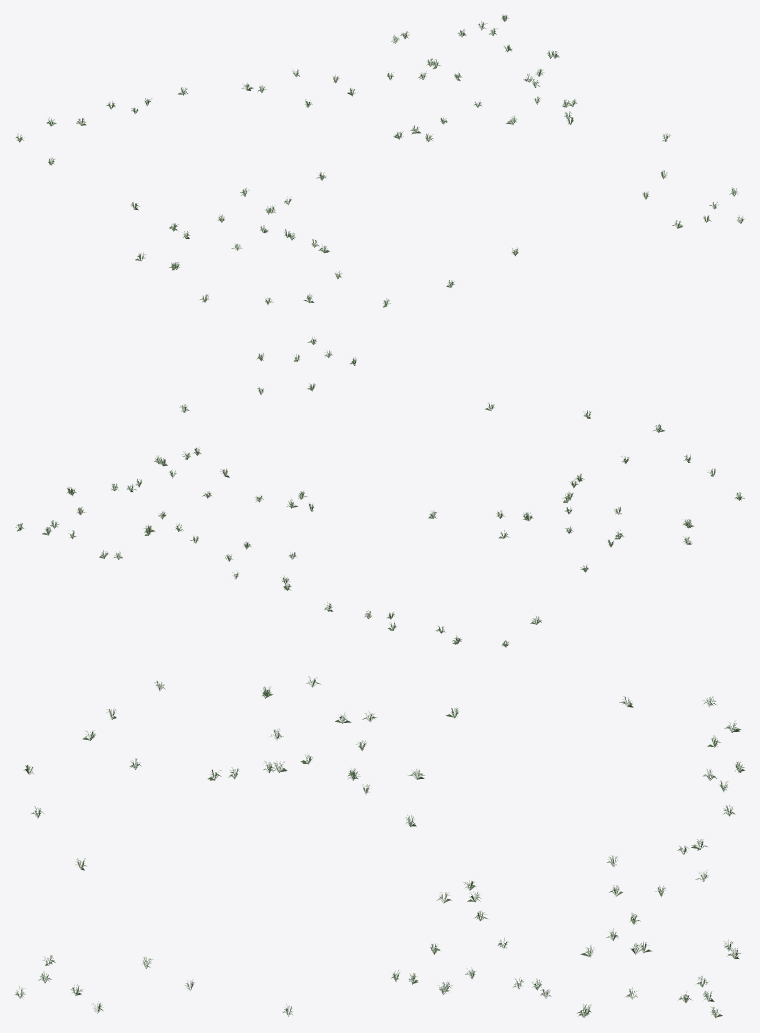
Rendered from xiyuan-vegetation-37-medium.glb.
The picture shows the model from 3 angles, top to bottom: view 1: azimuth 30°, elevation 25°; view 2: azimuth 150°, elevation 25°; view 3: azimuth 270°, elevation 25°; orthographic projection. The views are drawn at different scales.
Visible parts, largest first — view 1: mondo grass.002; view 2: mondo grass.002; view 3: mondo grass.002.
Part boxes in pixels (x1=…): mondo grass.002: x1=16, y1=15, x2=744, y2=307; mondo grass.002: x1=15, y1=337, x2=744, y2=647; mondo grass.002: x1=15, y1=676, x2=744, y2=1018.
Size of the model in its own units: 32.28 by 0.4818 by 29.56.
